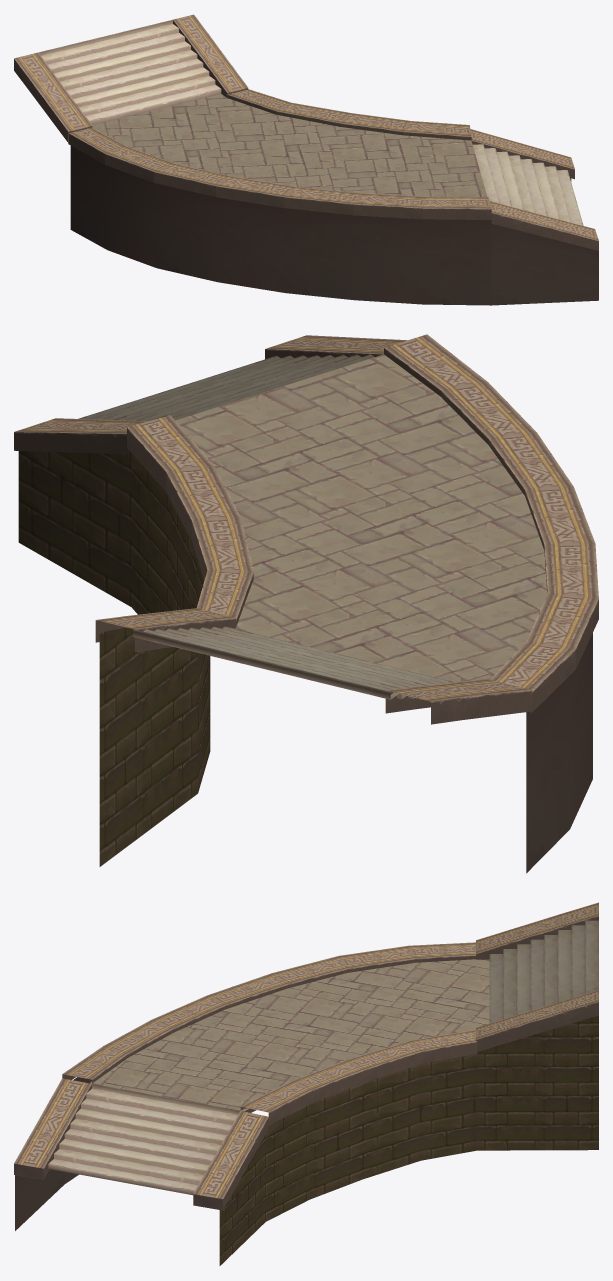
The model's file is fb_jjc_zj_07_d.FBX.
3 views of the same model, one above another, from view 1: azimuth 30°, elevation 25°; view 2: azimuth 150°, elevation 25°; view 3: azimuth 270°, elevation 25° (orthographic). The views are drawn at different scales.
Parts seen in each view (by area): view 1: fb_jjc_zj_07_f, fb_jjc_zj_07_g, fb_jjc_zj_07_e, fb_jjc_zj_07_d; view 2: fb_jjc_zj_07_g, fb_jjc_zj_07_f, fb_jjc_zj_07_h, fb_jjc_zj_07_e, fb_jjc_zj_07_d; view 3: fb_jjc_zj_07_h, fb_jjc_zj_07_g, fb_jjc_zj_07_d, fb_jjc_zj_07_f, fb_jjc_zj_07_e.
Boxes of the visible parts, left/top/right/bottom form: fb_jjc_zj_07_f: left=68, top=89, right=491, bottom=305; fb_jjc_zj_07_g: left=92, top=94, right=487, bottom=196; fb_jjc_zj_07_e: left=14, top=14, right=248, bottom=143; fb_jjc_zj_07_d: left=470, top=129, right=598, bottom=305; fb_jjc_zj_07_g: left=175, top=354, right=547, bottom=682; fb_jjc_zj_07_f: left=127, top=334, right=598, bottom=873; fb_jjc_zj_07_h: left=18, top=448, right=210, bottom=866; fb_jjc_zj_07_e: left=95, top=608, right=532, bottom=724; fb_jjc_zj_07_d: left=14, top=335, right=407, bottom=454; fb_jjc_zj_07_h: left=219, top=1015, right=598, bottom=1265; fb_jjc_zj_07_g: left=90, top=959, right=489, bottom=1111; fb_jjc_zj_07_d: left=14, top=1078, right=268, bottom=1230; fb_jjc_zj_07_f: left=62, top=942, right=477, bottom=1183; fb_jjc_zj_07_e: left=476, top=902, right=598, bottom=1051.
Bounding box in the file's own units: 2859 × 927 × 3286.
